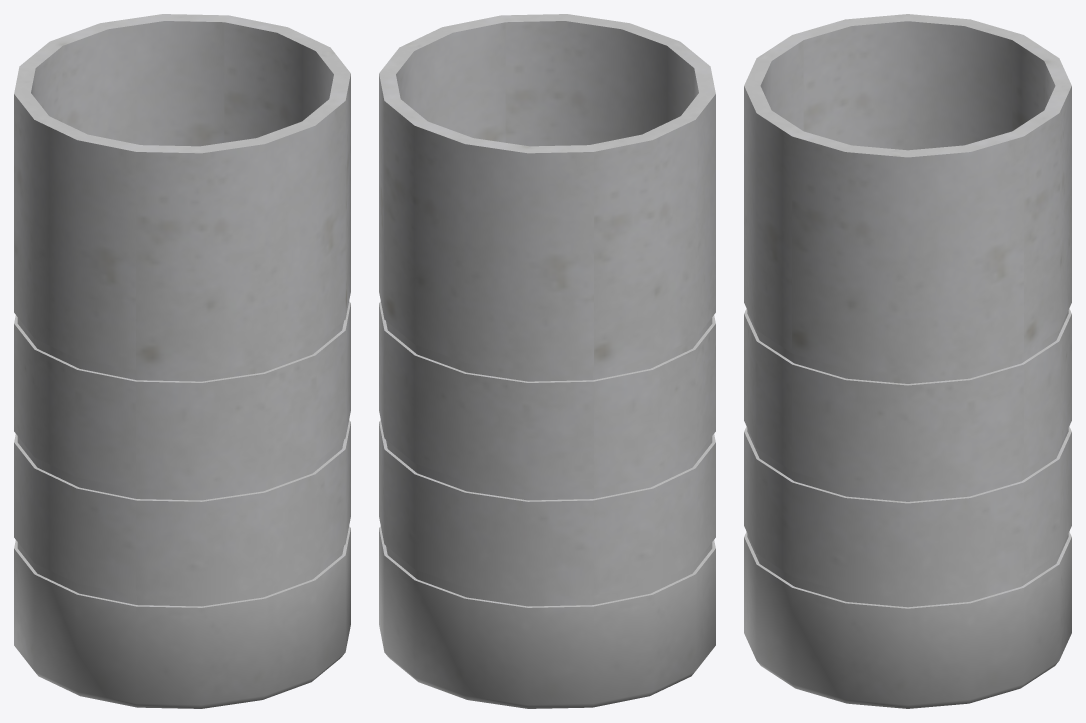
File: SM_反应釜.FBX
3 views of the same model, side by side, from view 1: azimuth 30°, elevation 25°; view 2: azimuth 150°, elevation 25°; view 3: azimuth 270°, elevation 25° (orthographic).
Visible parts, largest first — view 1: SM_反应釜; view 2: SM_反应釜; view 3: SM_反应釜.
Boxes of the visible parts, <box> form: SM_反应釜: <box>14,14,350,708</box>; SM_反应釜: <box>379,14,715,708</box>; SM_反应釜: <box>744,14,1071,708</box>.
Bounding box in the file's own units: 89.01 × 160 × 85.94.
